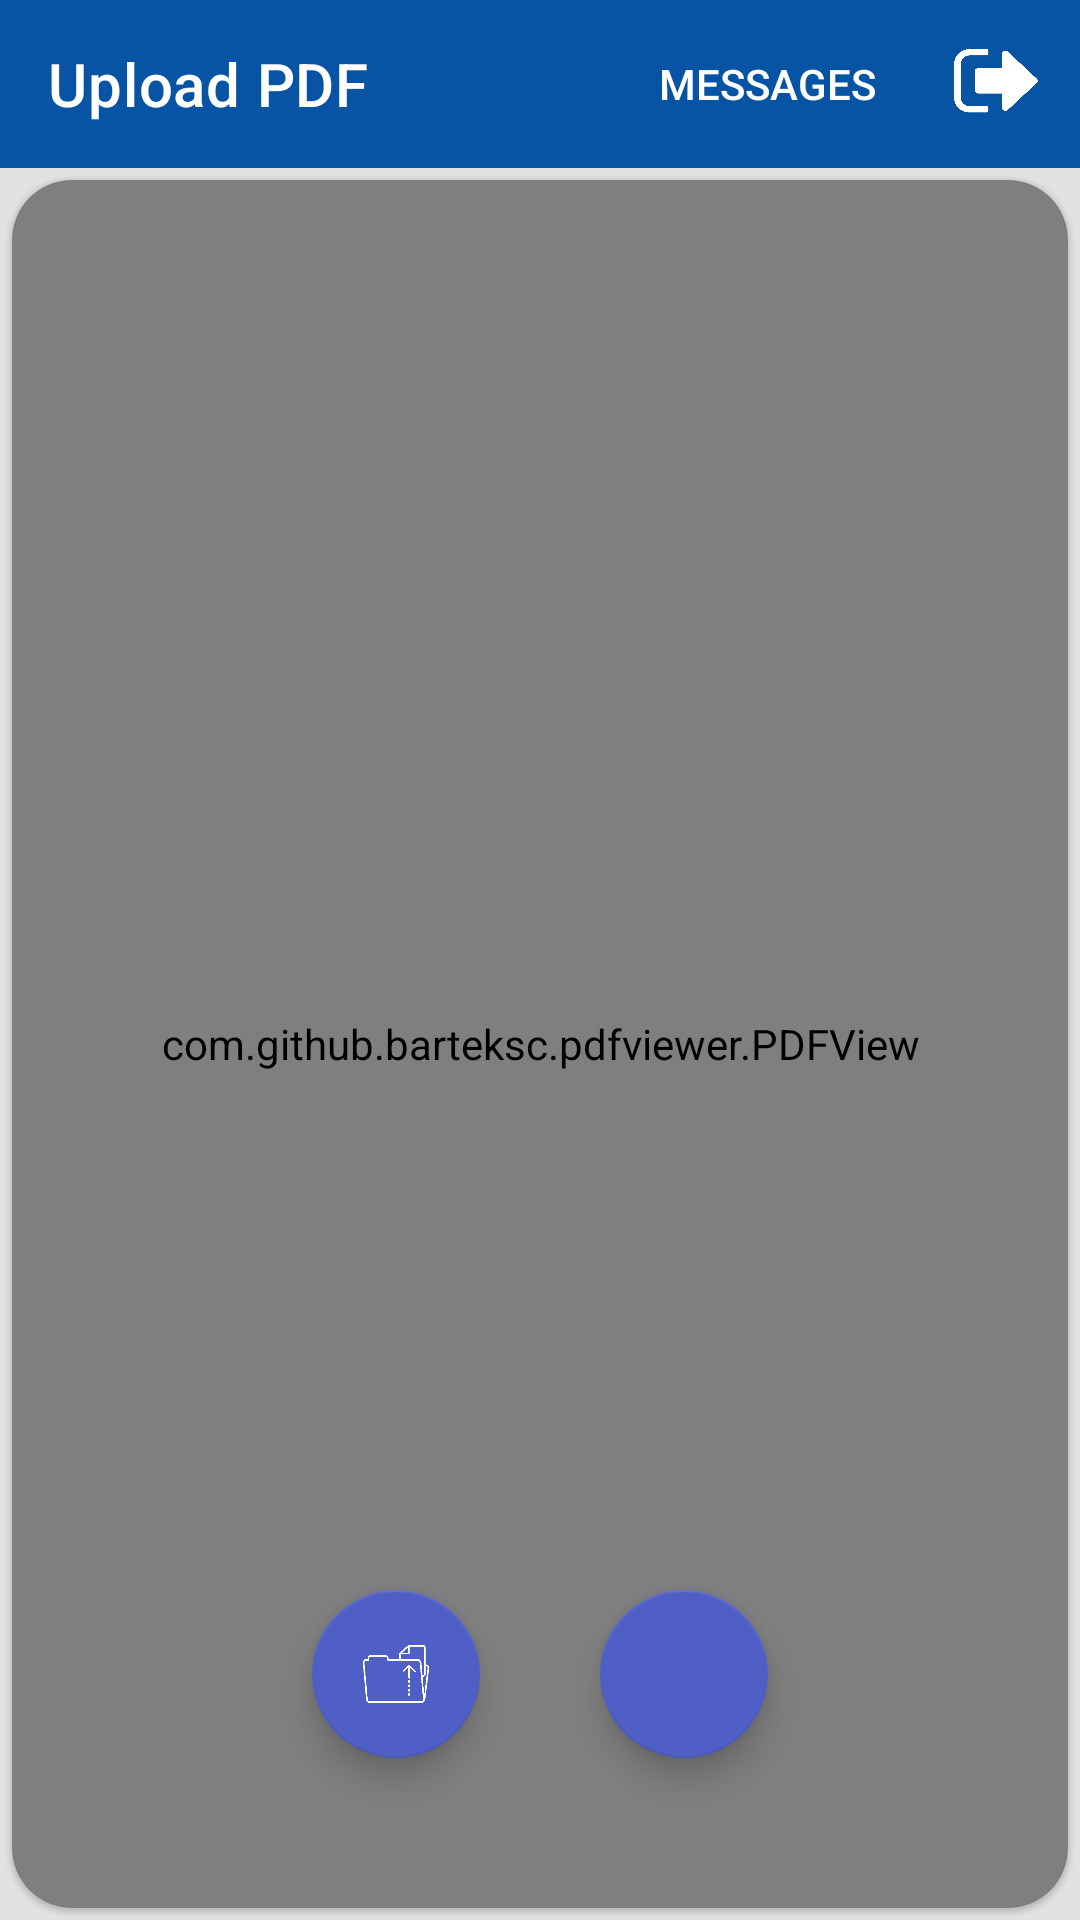

Where icons sit on this 1080 x 1920 app screen, as (x1, y1, x2, y2):
Browse: (312, 1590, 480, 1758)
